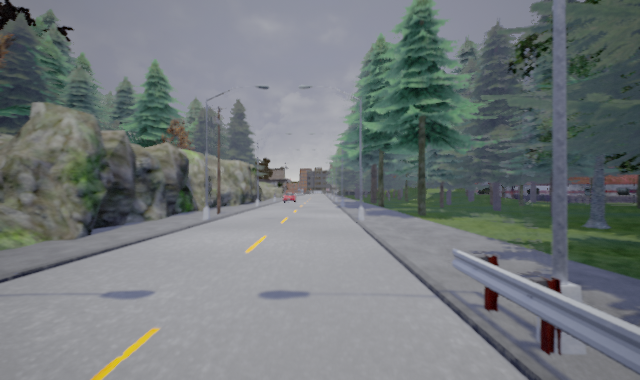vehicle: (282, 192, 298, 204)
